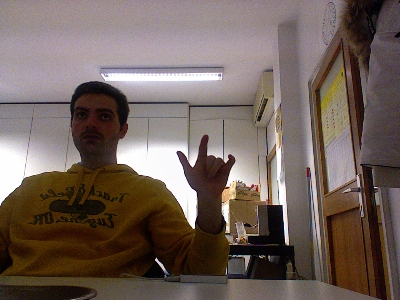我爱你: (174, 132, 235, 195)
